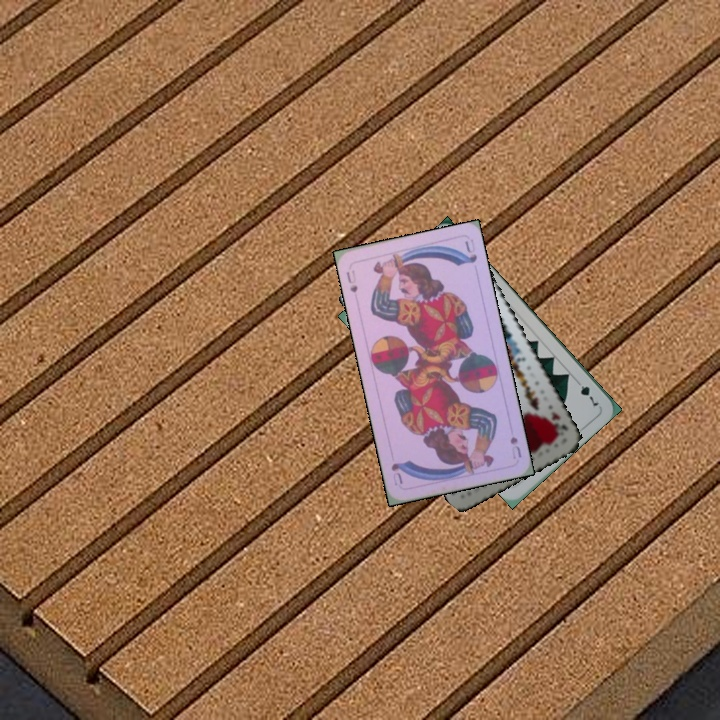G7: (571, 376, 601, 409)
HK: (544, 408, 571, 433)
SU: (506, 432, 524, 462), (342, 266, 360, 296)
